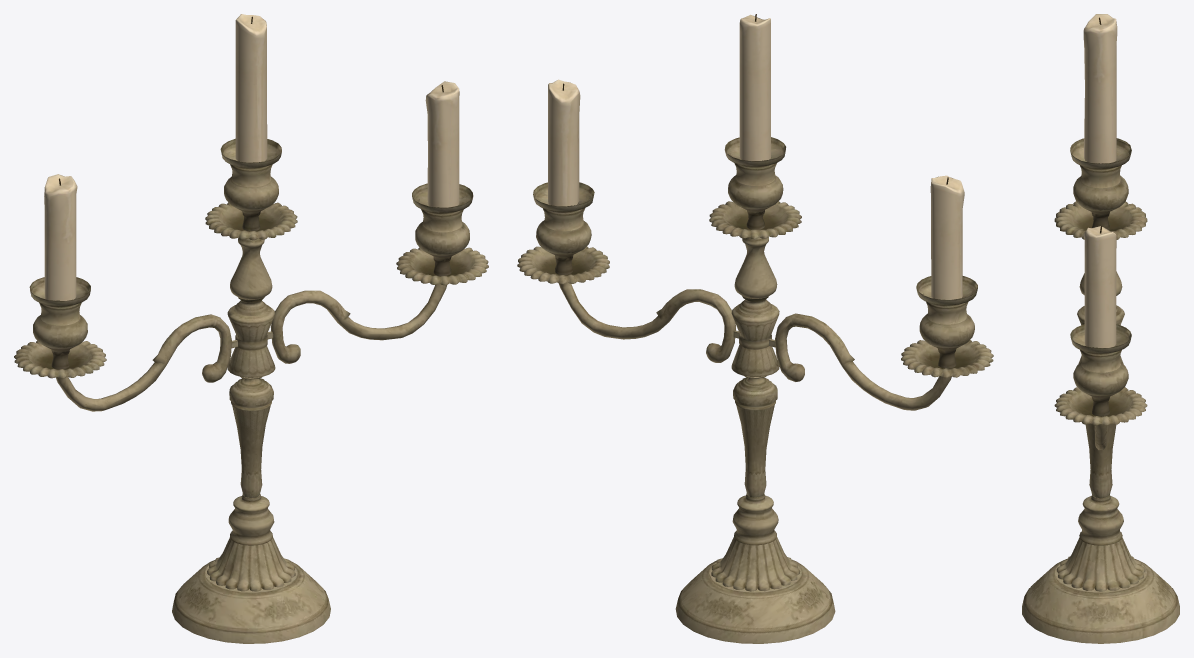
The model's file is candelabra.glb.
The picture shows the model from 3 angles, left to right: view 1: azimuth 30°, elevation 25°; view 2: azimuth 150°, elevation 25°; view 3: azimuth 270°, elevation 25°; orthographic projection.
Parts seen in each view (by area): view 1: A_Candelabra, A_Candle, A_Candle1, A_Candle2; view 2: A_Candelabra, A_Candle, A_Candle2, A_Candle1; view 3: A_Candelabra, A_Candle, A_Candle2.
Part boxes in pixels (x1=…): A_Candelabra: x1=14, y1=138, x2=488, y2=643; A_Candle: x1=235, y1=14, x2=267, y2=162; A_Candle1: x1=44, y1=174, x2=77, y2=300; A_Candle2: x1=425, y1=81, x2=459, y2=207; A_Candelabra: x1=517, y1=137, x2=993, y2=643; A_Candle: x1=739, y1=14, x2=770, y2=160; A_Candle2: x1=548, y1=79, x2=580, y2=206; A_Candle1: x1=930, y1=175, x2=964, y2=299; A_Candelabra: x1=1022, y1=138, x2=1179, y2=643; A_Candle: x1=1083, y1=14, x2=1117, y2=163; A_Candle2: x1=1083, y1=226, x2=1116, y2=347.
Bounding box in the file's own units: 0.3105 × 0.3815 × 0.0921.
2 materials, 2 textured.
